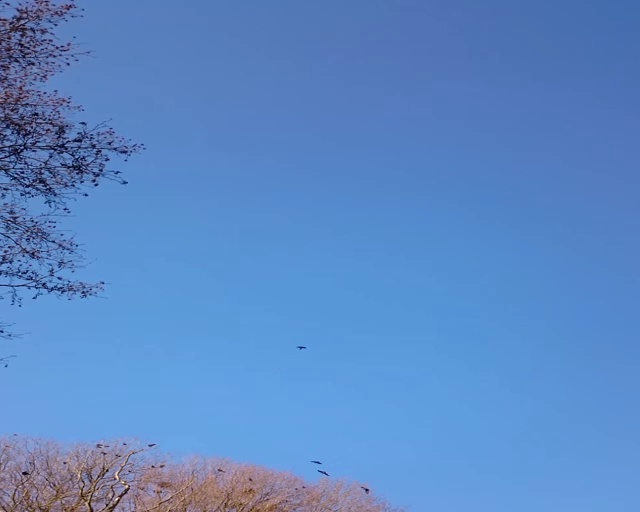BIRD: (310, 459, 328, 476)
